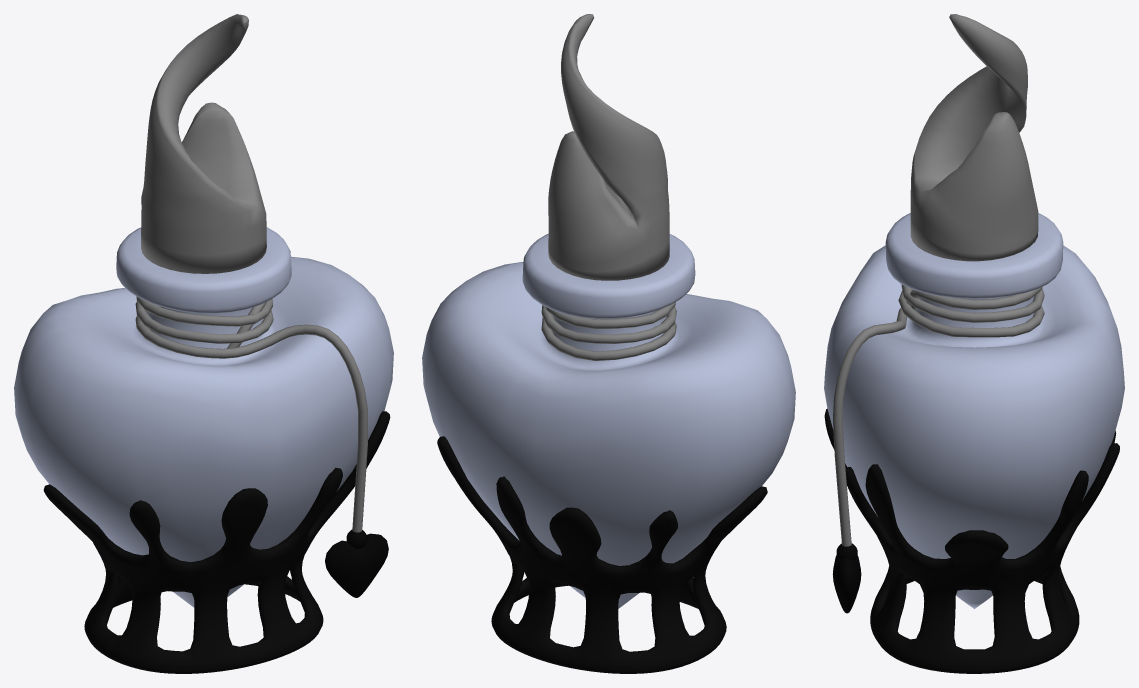
File: Love_Potion.fbx
3 renders of one model, left to right at view 1: azimuth 30°, elevation 25°; view 2: azimuth 150°, elevation 25°; view 3: azimuth 270°, elevation 25°, orthographic. The views are drawn at different scales.
Parts seen in each view (by area): view 1: Bottle, Stand, Cork, Rope, Heart; view 2: Bottle, Stand, Cork, Rope; view 3: Bottle, Stand, Cork, Rope, Heart.
Part boxes in pixels (left/top/right/bottom): Bottle: left=14, top=227, right=393, bottom=607; Stand: left=43, top=411, right=390, bottom=673; Cork: left=141, top=14, right=266, bottom=273; Rope: left=135, top=296, right=367, bottom=532; Heart: left=325, top=533, right=388, bottom=597; Bottle: left=422, top=233, right=795, bottom=608; Stand: left=437, top=436, right=767, bottom=673; Cork: left=548, top=14, right=669, bottom=280; Rope: left=541, top=302, right=676, bottom=360; Bottle: left=824, top=213, right=1124, bottom=608; Stand: left=824, top=408, right=1119, bottom=673; Cork: left=910, top=14, right=1038, bottom=261; Rope: left=833, top=284, right=1044, bottom=546; Heart: left=832, top=555, right=861, bottom=613.
Size of the model in its own units: 43.11 by 72.52 by 31.66.
